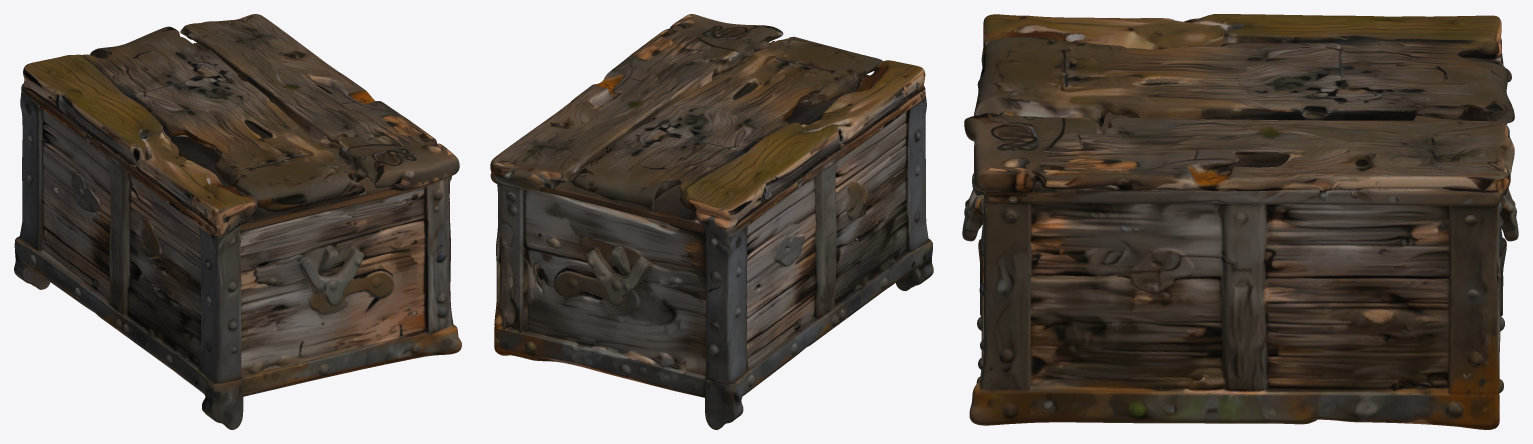
The model's file is صندوق_خشبي.glb.
The picture shows the model from 3 angles, left to right: view 1: azimuth 30°, elevation 25°; view 2: azimuth 150°, elevation 25°; view 3: azimuth 270°, elevation 25°; orthographic projection. The views are drawn at different scales.
Parts seen in each view (by area): view 1: tripo_node_9a2bae58-9129-4b58-8c2b-204bc62c8f65; view 2: tripo_node_9a2bae58-9129-4b58-8c2b-204bc62c8f65; view 3: tripo_node_9a2bae58-9129-4b58-8c2b-204bc62c8f65.
Part boxes in pixels (x1,y1,x2,y2): tripo_node_9a2bae58-9129-4b58-8c2b-204bc62c8f65: (14,14,461,429); tripo_node_9a2bae58-9129-4b58-8c2b-204bc62c8f65: (490,14,933,429); tripo_node_9a2bae58-9129-4b58-8c2b-204bc62c8f65: (962,14,1518,429).
Size of the model in its own units: 0.6832 by 0.5937 by 1.
Materials: 1 (1 with a texture image).
